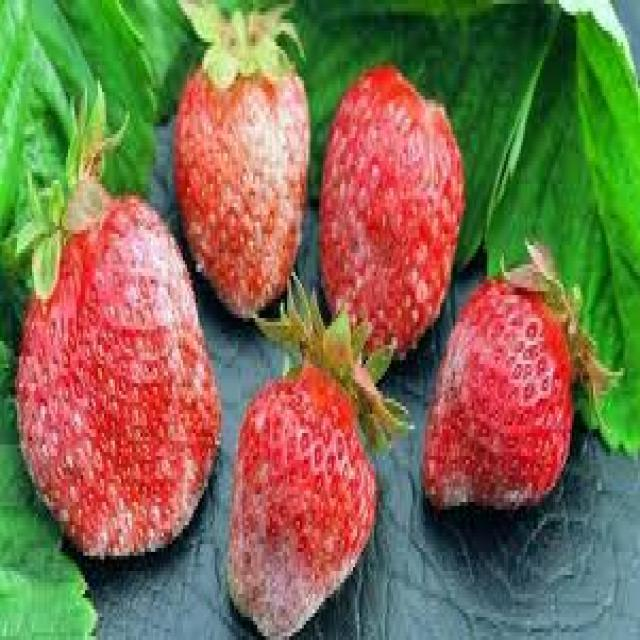Oído: (9, 172, 220, 580), (229, 348, 382, 636), (162, 27, 310, 316), (428, 275, 584, 519), (328, 59, 452, 357)
